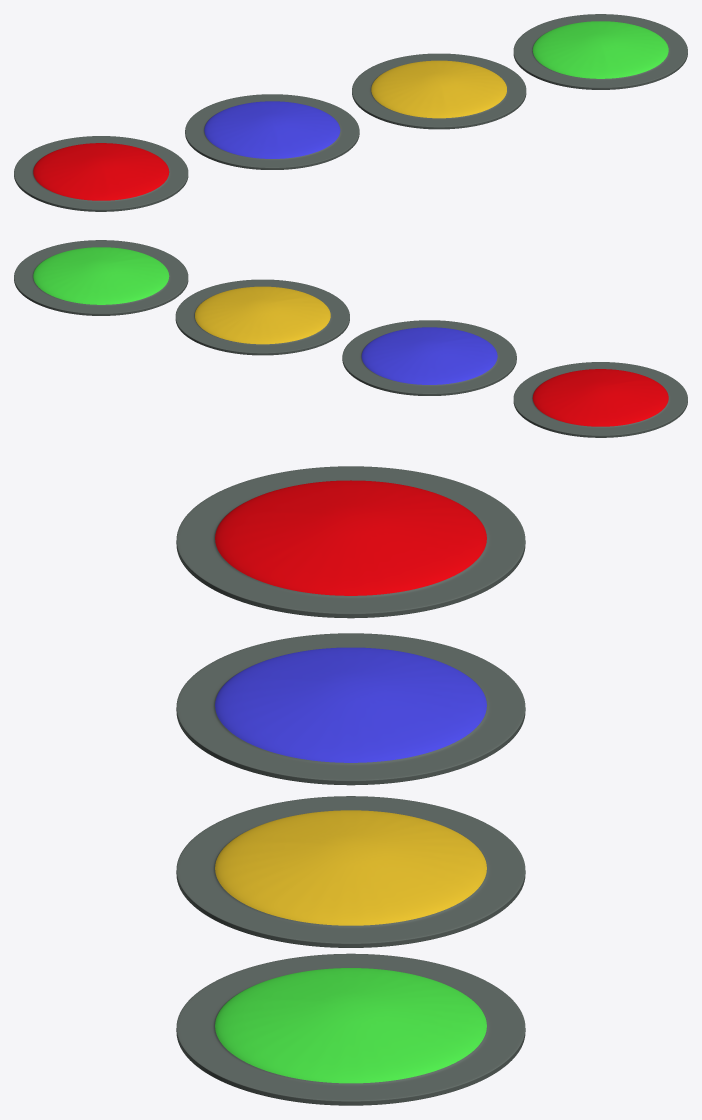
3 renders of one model, top to bottom at view 1: azimuth 30°, elevation 25°; view 2: azimuth 150°, elevation 25°; view 3: azimuth 270°, elevation 25°, orthographic. The views are drawn at different scales.
Parts seen in each view (by area): view 1: Circle.002, Circle, Circle.001, Circle.003; view 2: Circle.002, Circle, Circle.001, Circle.003; view 3: Circle.003, Circle, Circle.001, Circle.002.
Boxes of the visible parts, left/top/right/bottom form: Circle.002: left=352, top=53, right=526, bottom=129; Circle: left=14, top=136, right=188, bottom=211; Circle.001: left=185, top=94, right=359, bottom=169; Circle.003: left=513, top=14, right=687, bottom=89; Circle.002: left=175, top=279, right=349, bottom=355; Circle: left=513, top=362, right=687, bottom=437; Circle.001: left=342, top=320, right=516, bottom=395; Circle.003: left=14, top=240, right=188, bottom=315; Circle.003: left=176, top=953, right=525, bottom=1105; Circle: left=176, top=466, right=525, bottom=618; Circle.001: left=176, top=633, right=525, bottom=785; Circle.002: left=176, top=796, right=525, bottom=947.
Size of the model in its own units: 856 by 17.89 by 199.
